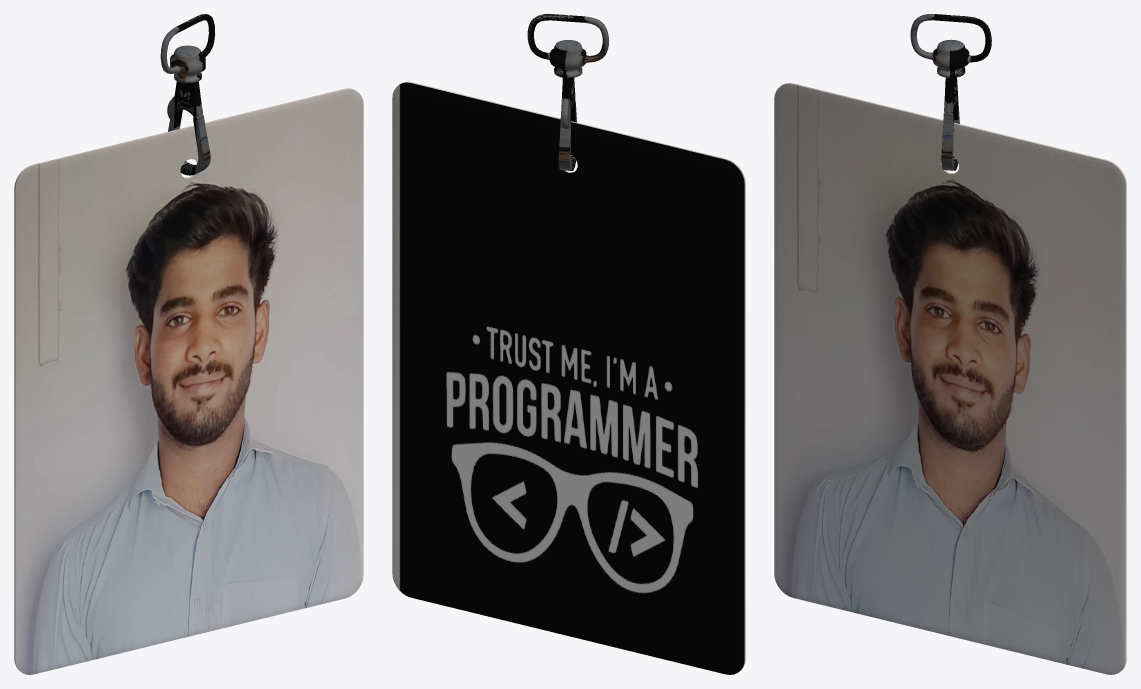
File: card4.glb
3 views of the same model, side by side, from view 1: azimuth 30°, elevation 25°; view 2: azimuth 150°, elevation 25°; view 3: azimuth 330°, elevation 25° (orthographic).
Parts seen in each view (by area): view 1: card, clamp, clip; view 2: card, clip, clamp; view 3: card, clip, clamp.
Boxes of the visible parts, box(x1,y1,x2,y2) form: card: box(14, 88, 363, 674); clamp: box(167, 81, 210, 175); clip: box(160, 14, 214, 83); card: box(392, 82, 745, 674); clip: box(527, 14, 608, 78); clamp: box(558, 77, 577, 170); card: box(774, 83, 1126, 674); clip: box(910, 14, 991, 77); clamp: box(941, 77, 959, 170).
Bounding box in the file's own units: 0.7164 × 1.21 × 0.0903.
Materials: 2 (2 with a texture image).
